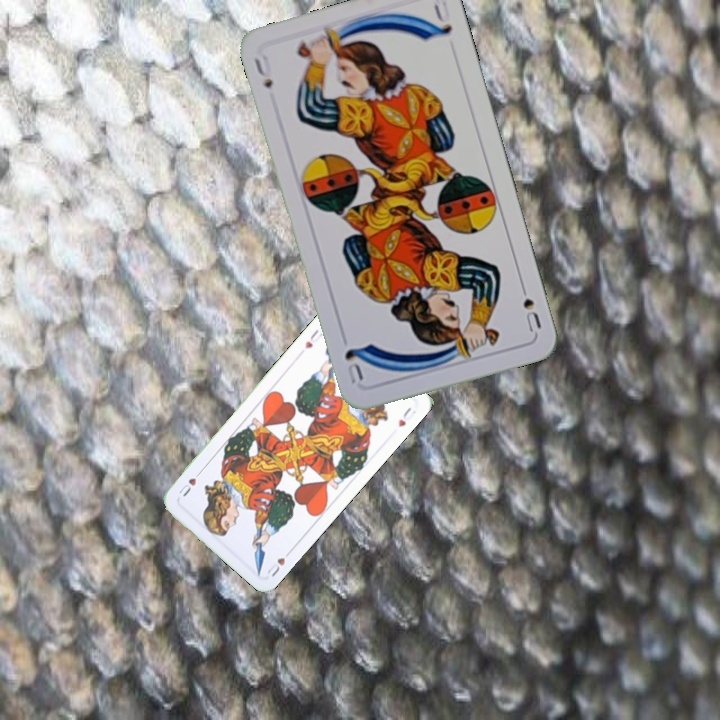HU: (263, 546, 295, 580), (301, 325, 325, 351)
SU: (515, 277, 544, 335), (250, 51, 275, 92)
